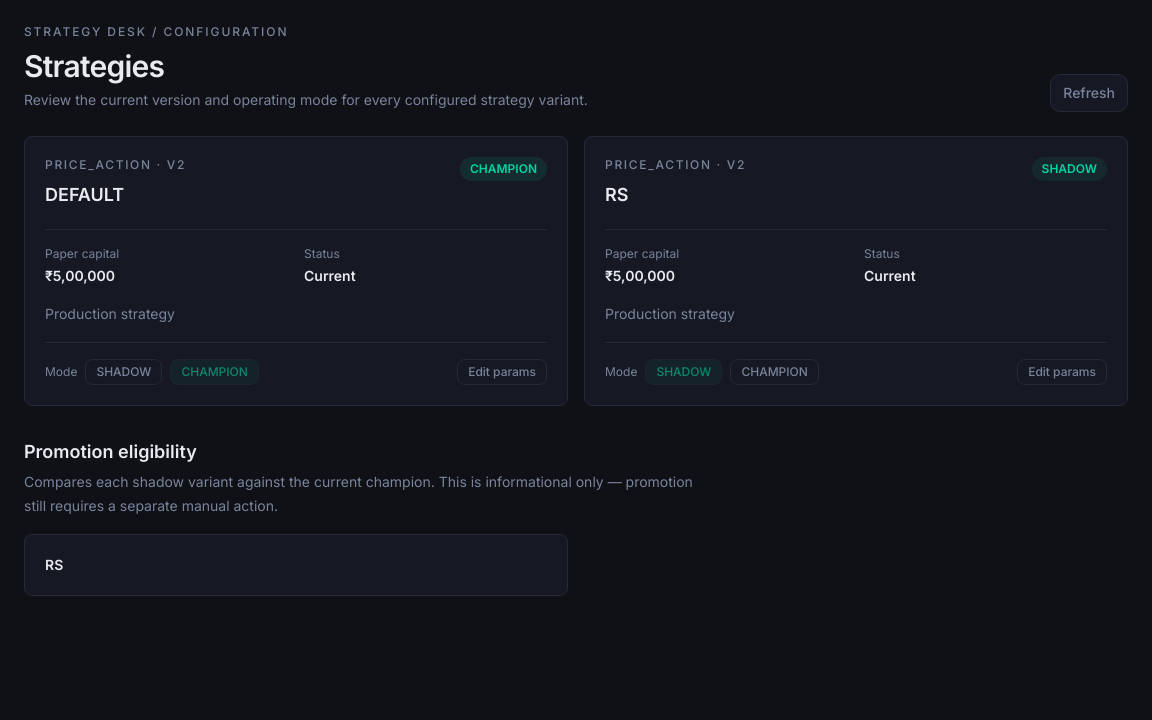
Test case: StrategiesView — mode, champion guard and params editor › explains when the strategy type schema is unavailable
The width and height of the screenshot is (1152, 720).
Click the button with test id "edit-params-RS": (1062, 372) [1017, 359, 1107, 385]
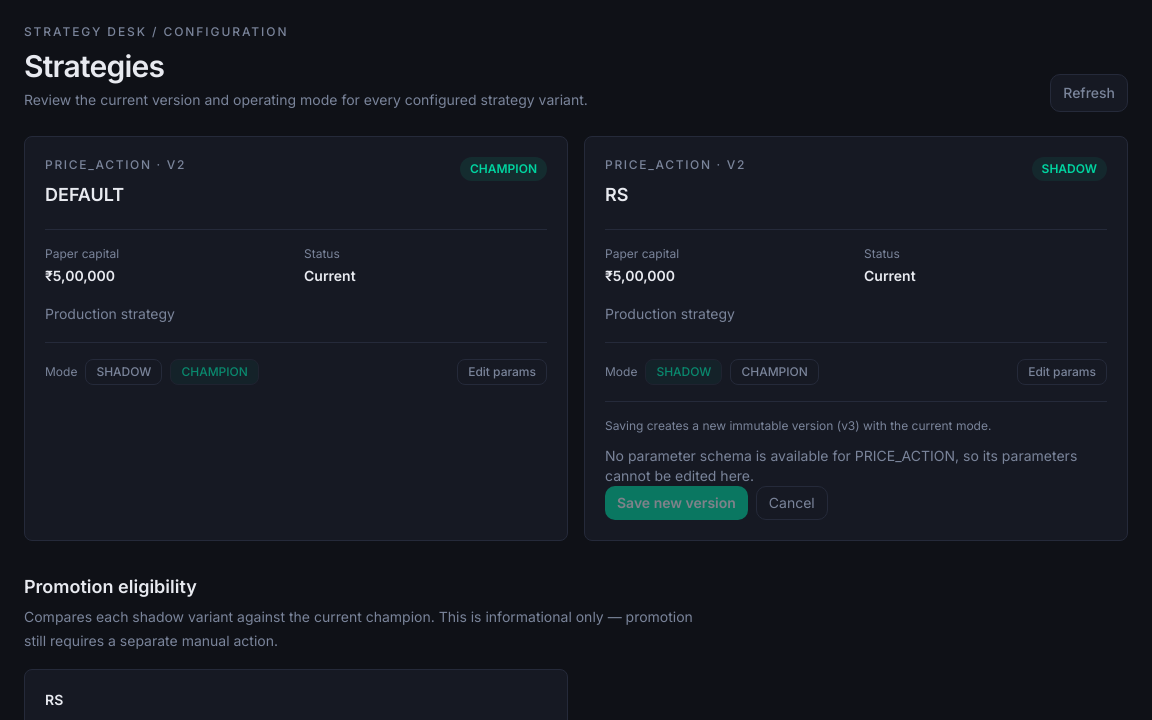
Expected: the text "No parameter schema" is shown, [605, 447, 1077, 484]
